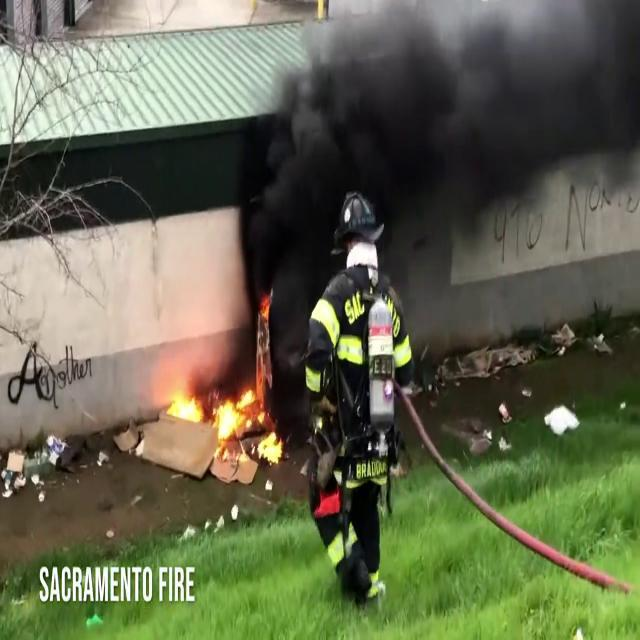Fire: (158, 368, 280, 460)
Smoke: (235, 0, 640, 299)
